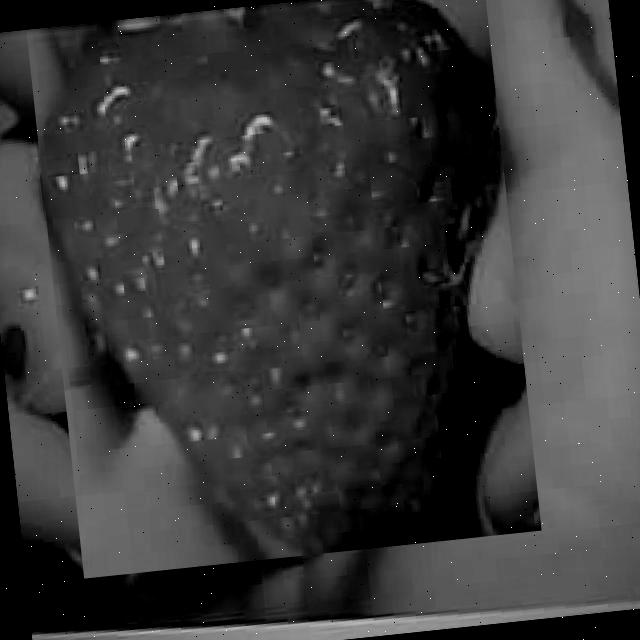ripe: (26, 0, 541, 578)
